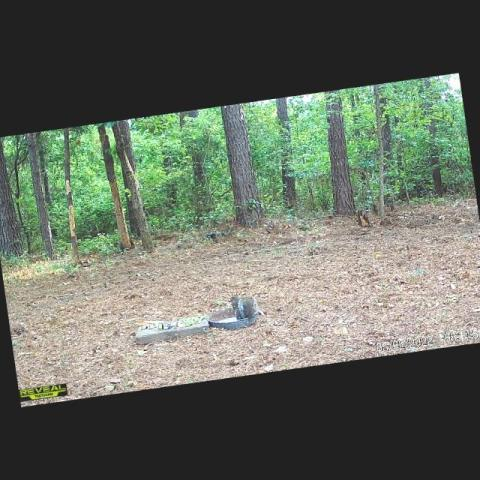small_animal: (228, 290, 258, 326), (210, 226, 224, 246)
